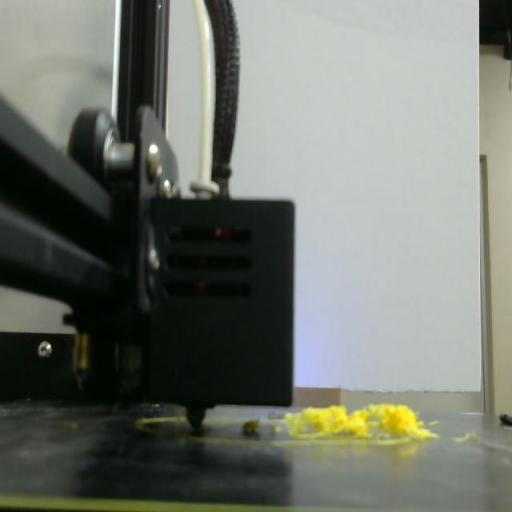spaghetti: (280, 388, 440, 462)
